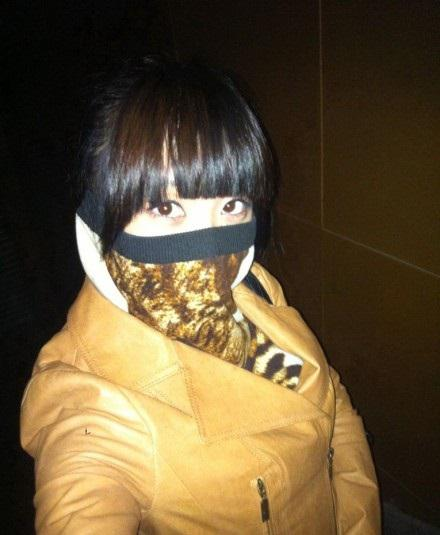OK: (128, 174, 257, 303)
